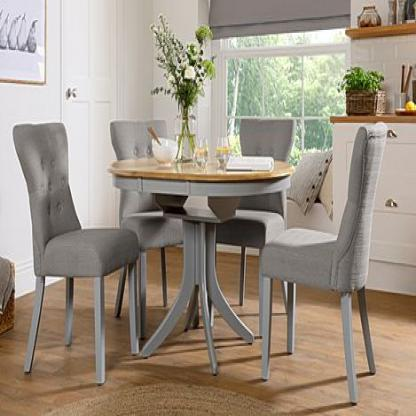chair: (264, 117, 400, 371), (9, 117, 121, 381), (109, 110, 190, 348), (210, 116, 303, 272)
table: (113, 156, 291, 361)
